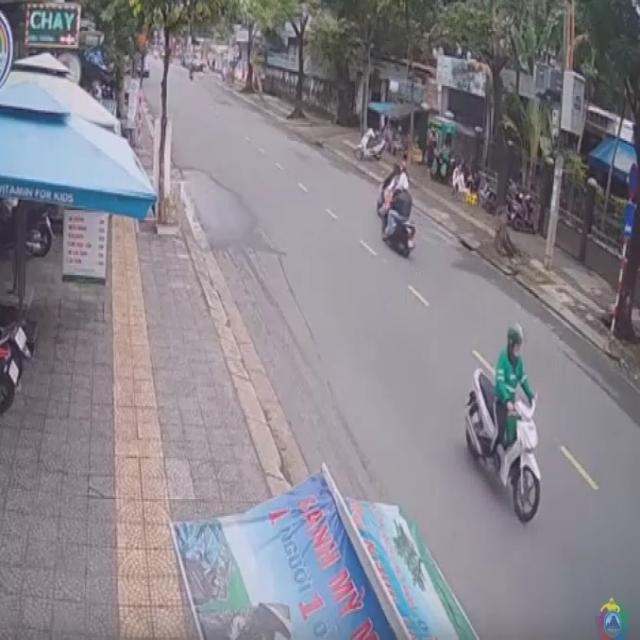motorbike: (472, 325, 543, 521), (380, 181, 415, 255), (382, 159, 408, 208)
